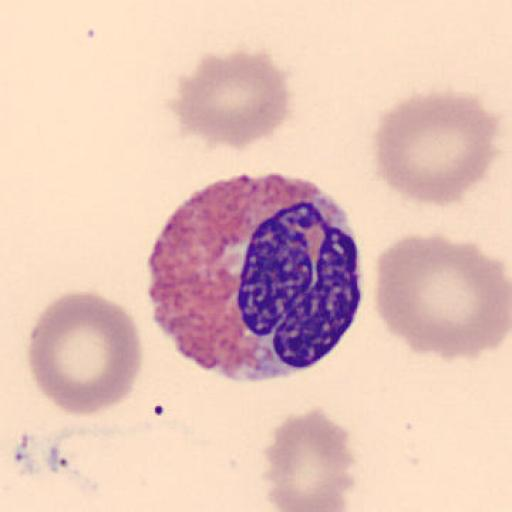RBC: (372, 230, 511, 362), (26, 289, 144, 418), (373, 90, 499, 206), (174, 46, 292, 150), (260, 407, 356, 512)
WBC: (143, 173, 366, 383)
